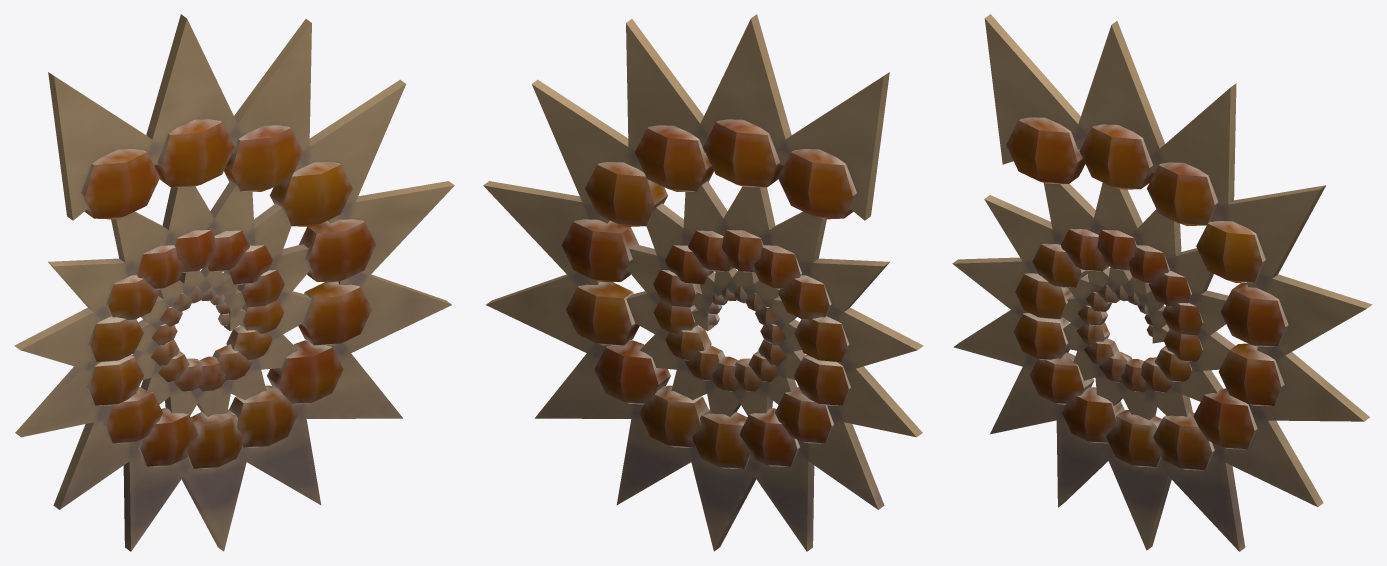
Rendered from whorl.glb.
3 renders of one model, left to right at view 1: azimuth 30°, elevation 25°; view 2: azimuth 150°, elevation 25°; view 3: azimuth 330°, elevation 25°, orthographic. The views are drawn at different scales.
Visible parts, largest first — view 1: SM_Whorl; view 2: SM_Whorl; view 3: SM_Whorl.
Boxes of the visible parts, left/top/right/bottom form: SM_Whorl: left=14, top=14, right=454, bottom=551; SM_Whorl: left=483, top=14, right=923, bottom=551; SM_Whorl: left=952, top=14, right=1372, bottom=551.
Bounding box in the file's own units: 0.4906 × 0.585 × 0.057.
Materials: 2 (2 with a texture image).
